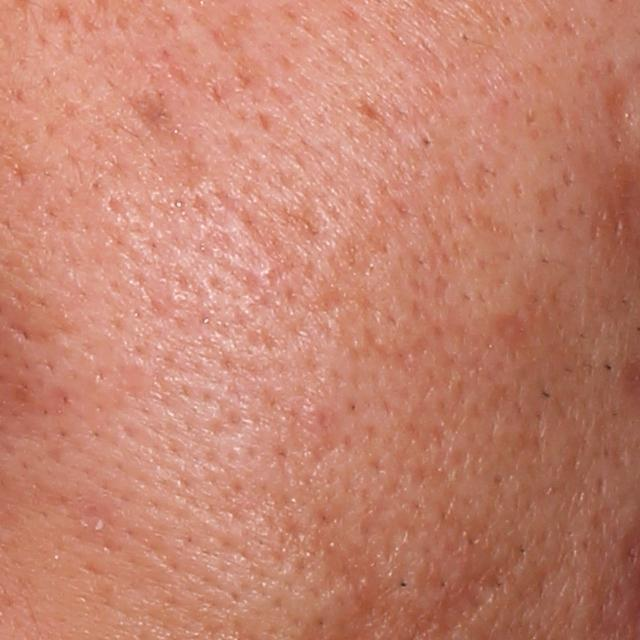atrophic_scar: (236, 209, 304, 289), (305, 260, 362, 317), (280, 386, 312, 454), (471, 158, 496, 202), (560, 161, 576, 188)
comedo: (414, 130, 439, 156)
